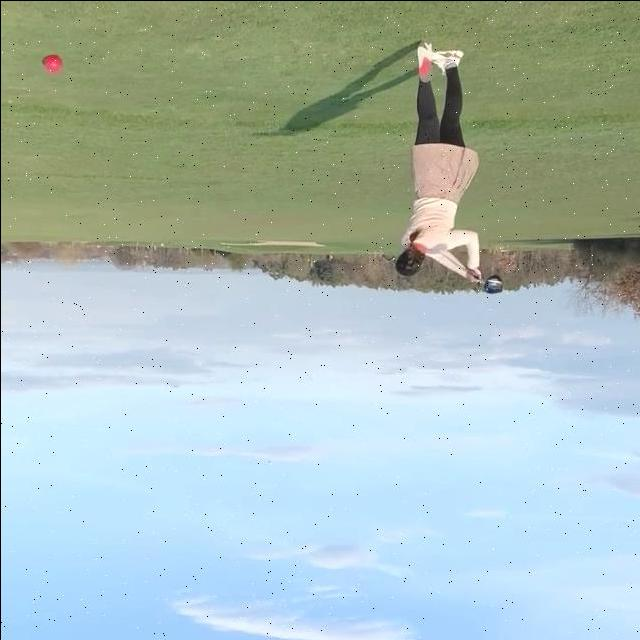golf club-handle: (477, 275, 502, 292)
golf club-head: (483, 275, 502, 293)
